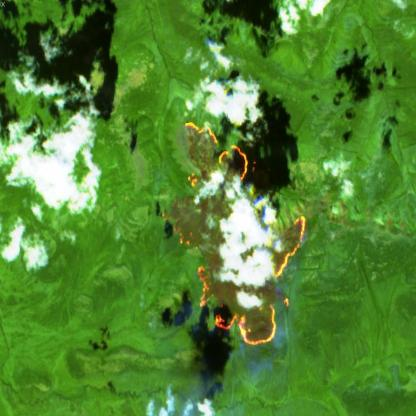fire: (157, 116, 310, 348)
